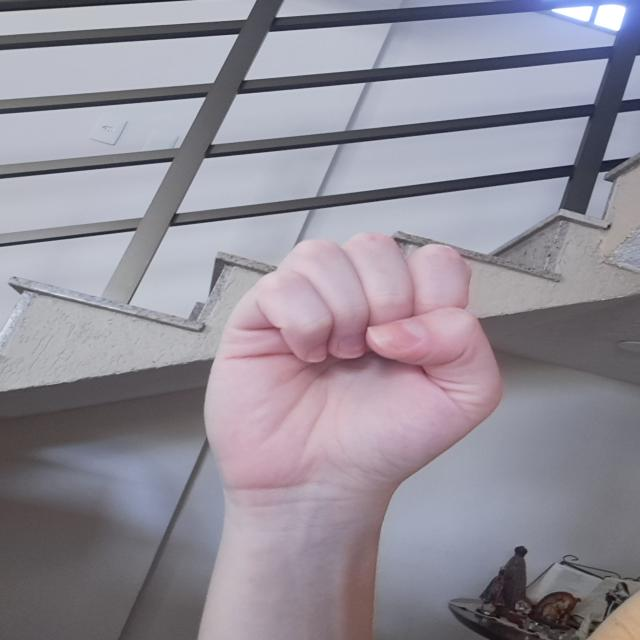S: (188, 230, 523, 478)
